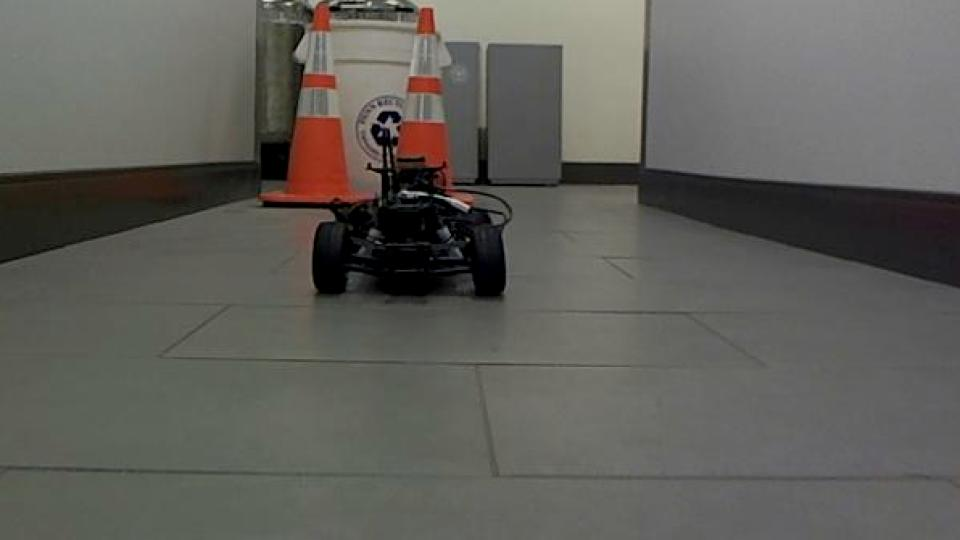car: (306, 126, 514, 301)
